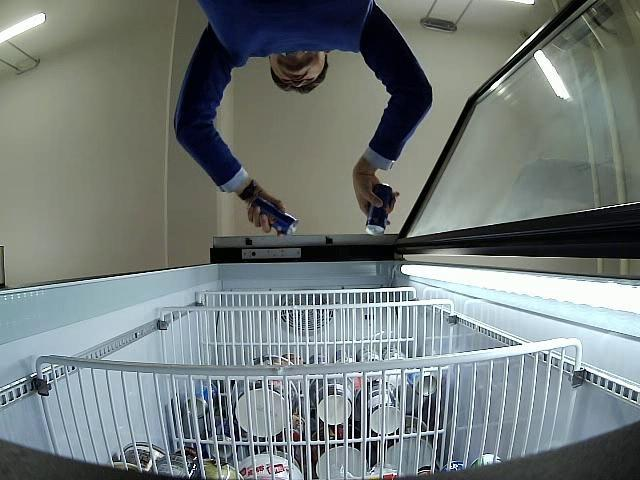16_hot6: (252, 198, 299, 236), (366, 183, 392, 237)
